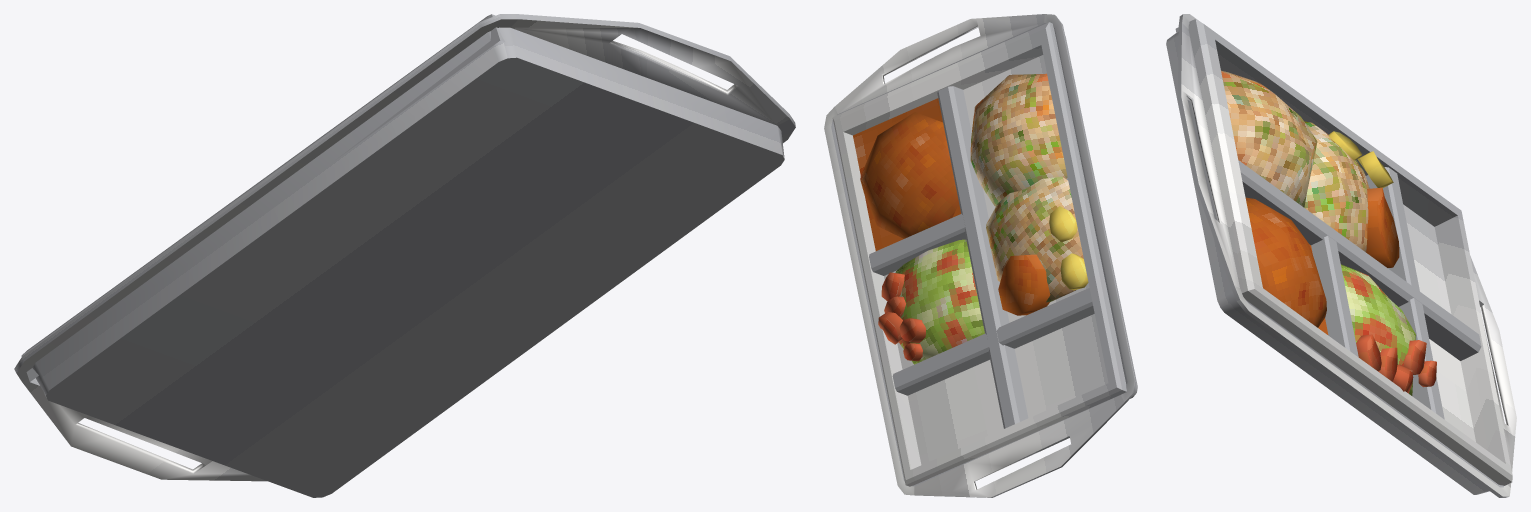
The model's file is H_MessTray_Food.fbx.
3 views of the same model, side by side, from view 1: azimuth 30°, elevation 25°; view 2: azimuth 150°, elevation 25°; view 3: azimuth 270°, elevation 25° (orthographic). The views are drawn at different scales.
Parts seen in each view (by area): view 1: MessTray; view 2: MessTray; view 3: MessTray.
Boxes of the visible parts, x1,y1,x2,y2 form: MessTray: (14, 14, 795, 497); MessTray: (824, 14, 1137, 497); MessTray: (1166, 14, 1516, 497).
Bounding box in the file's own units: 74.12 × 69.87 × 46.83.
